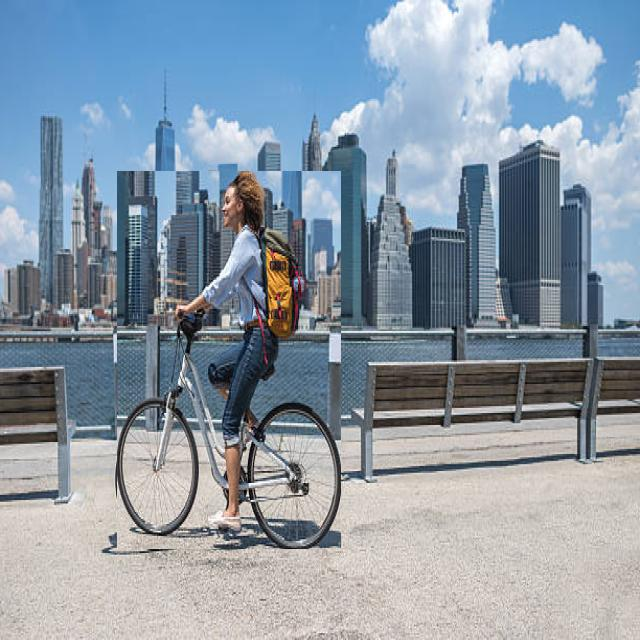bicycle: (117, 171, 340, 549)
